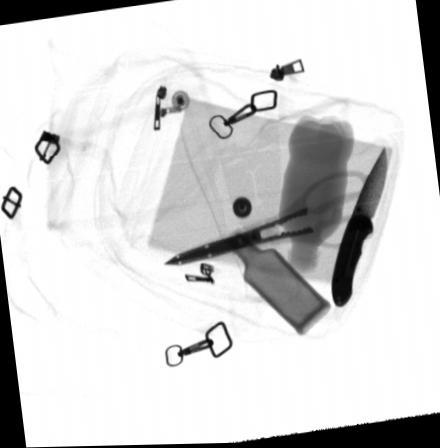Knife: (331, 148, 387, 310)
Scissors: (162, 173, 375, 266)
